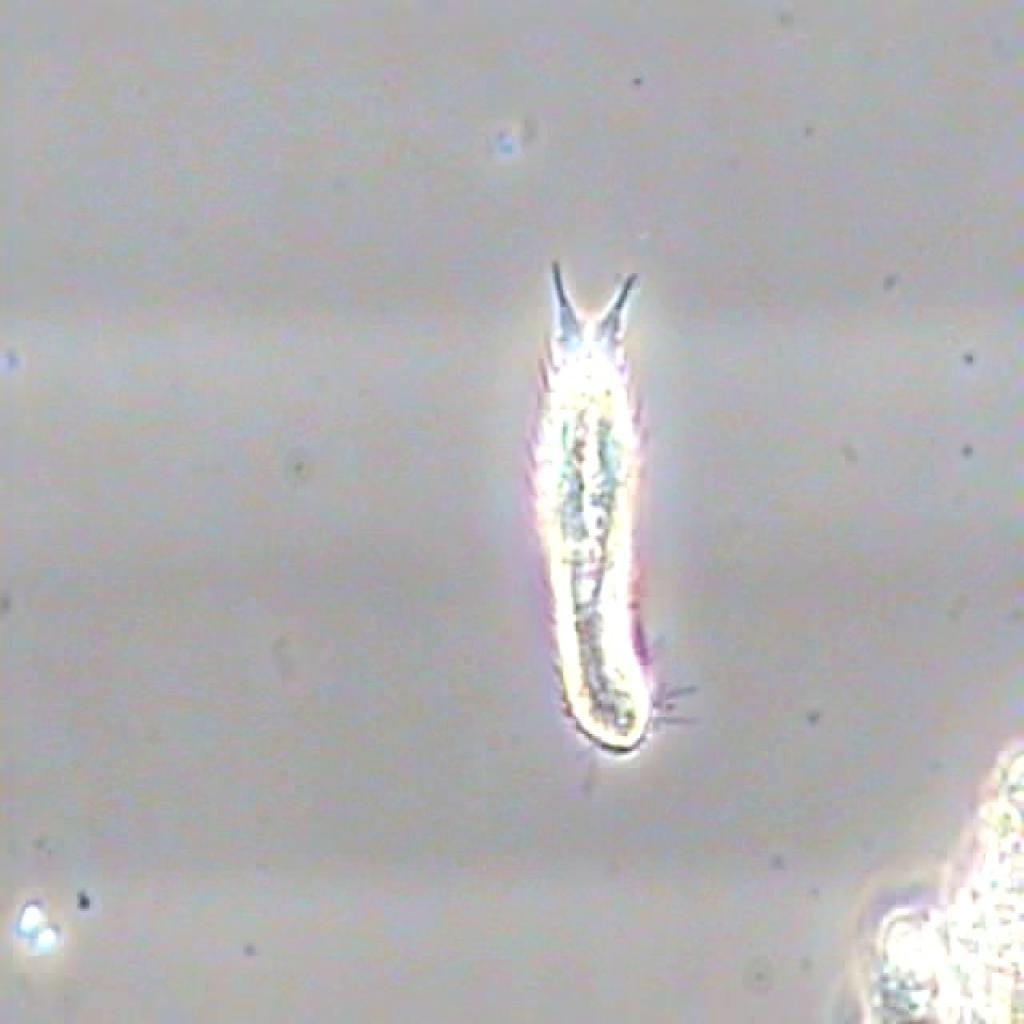Chaetonotus: (523, 240, 715, 793)
